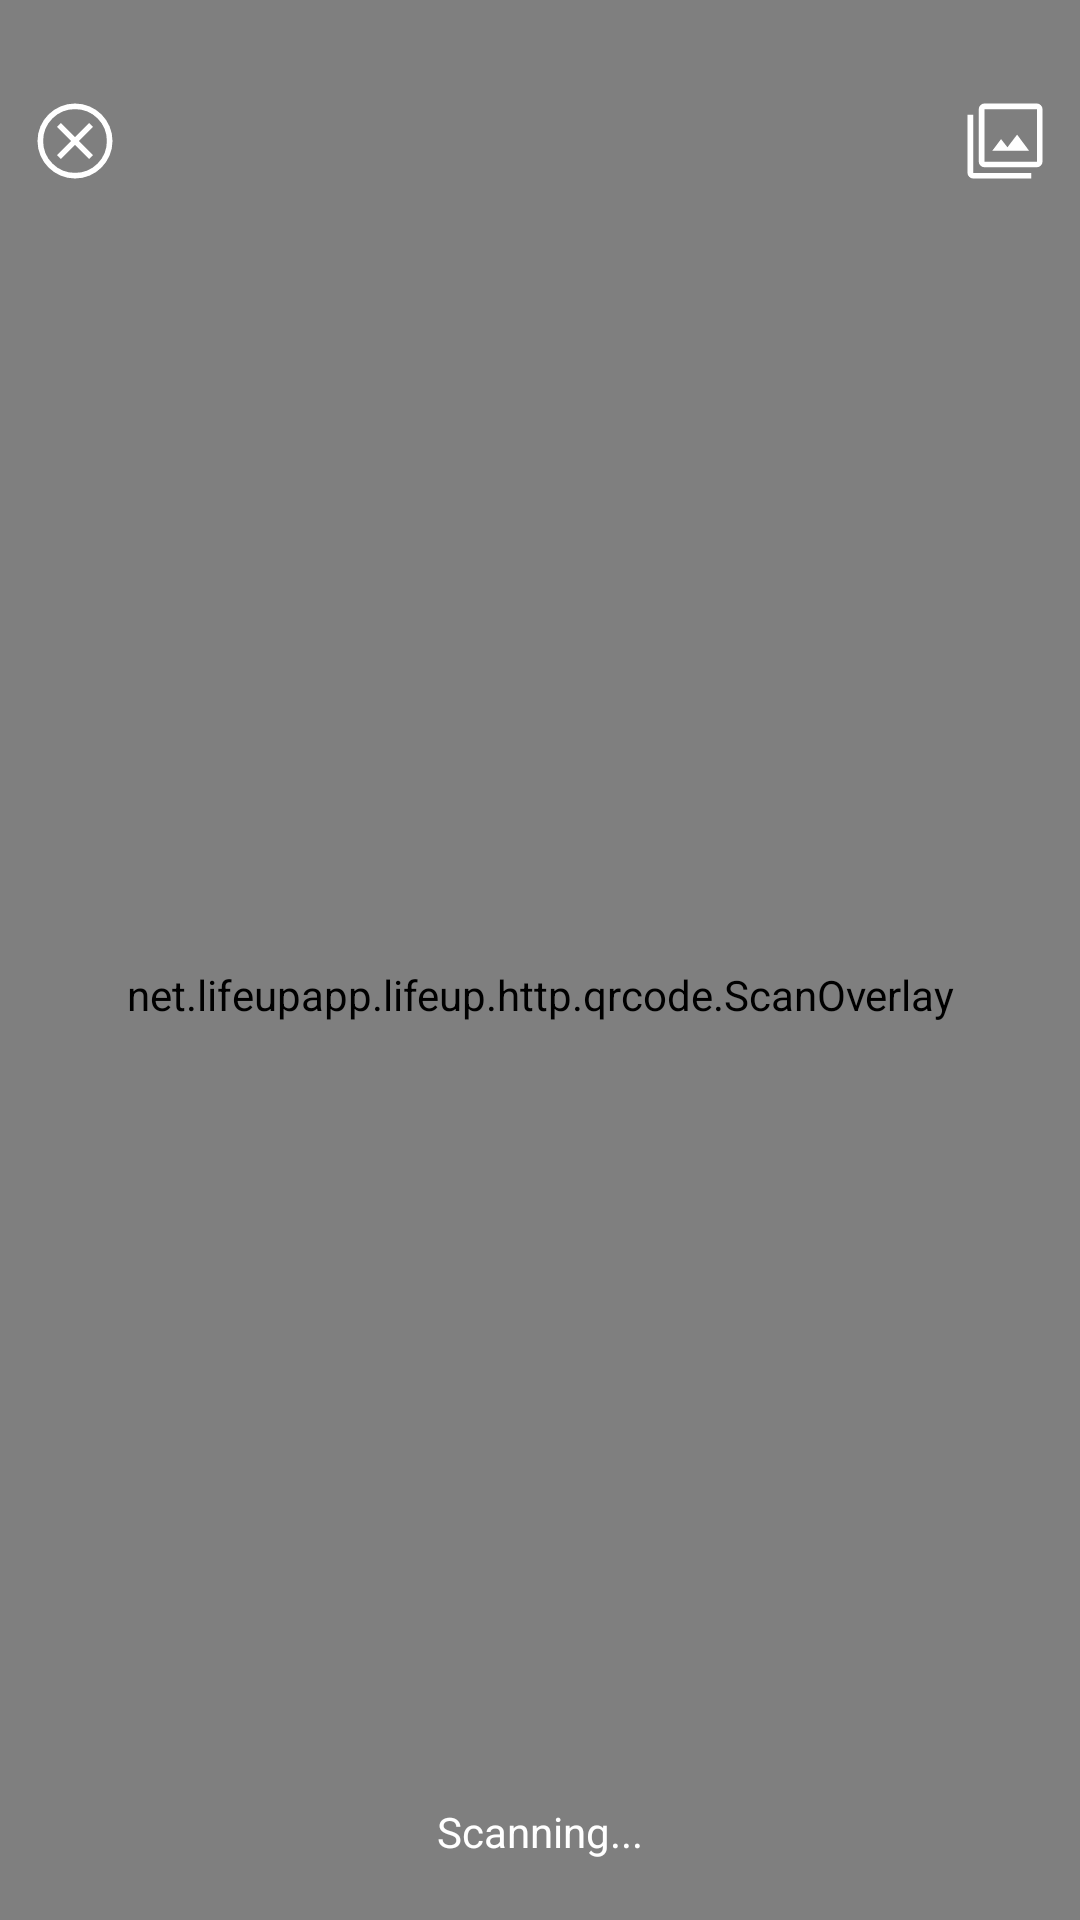

Named icons in this screenshot (1080 × 1920) and their bounding boxes, (x1, y1, x2, y2):
cancel: (37, 103, 113, 179)
photo library: (967, 103, 1043, 179)
